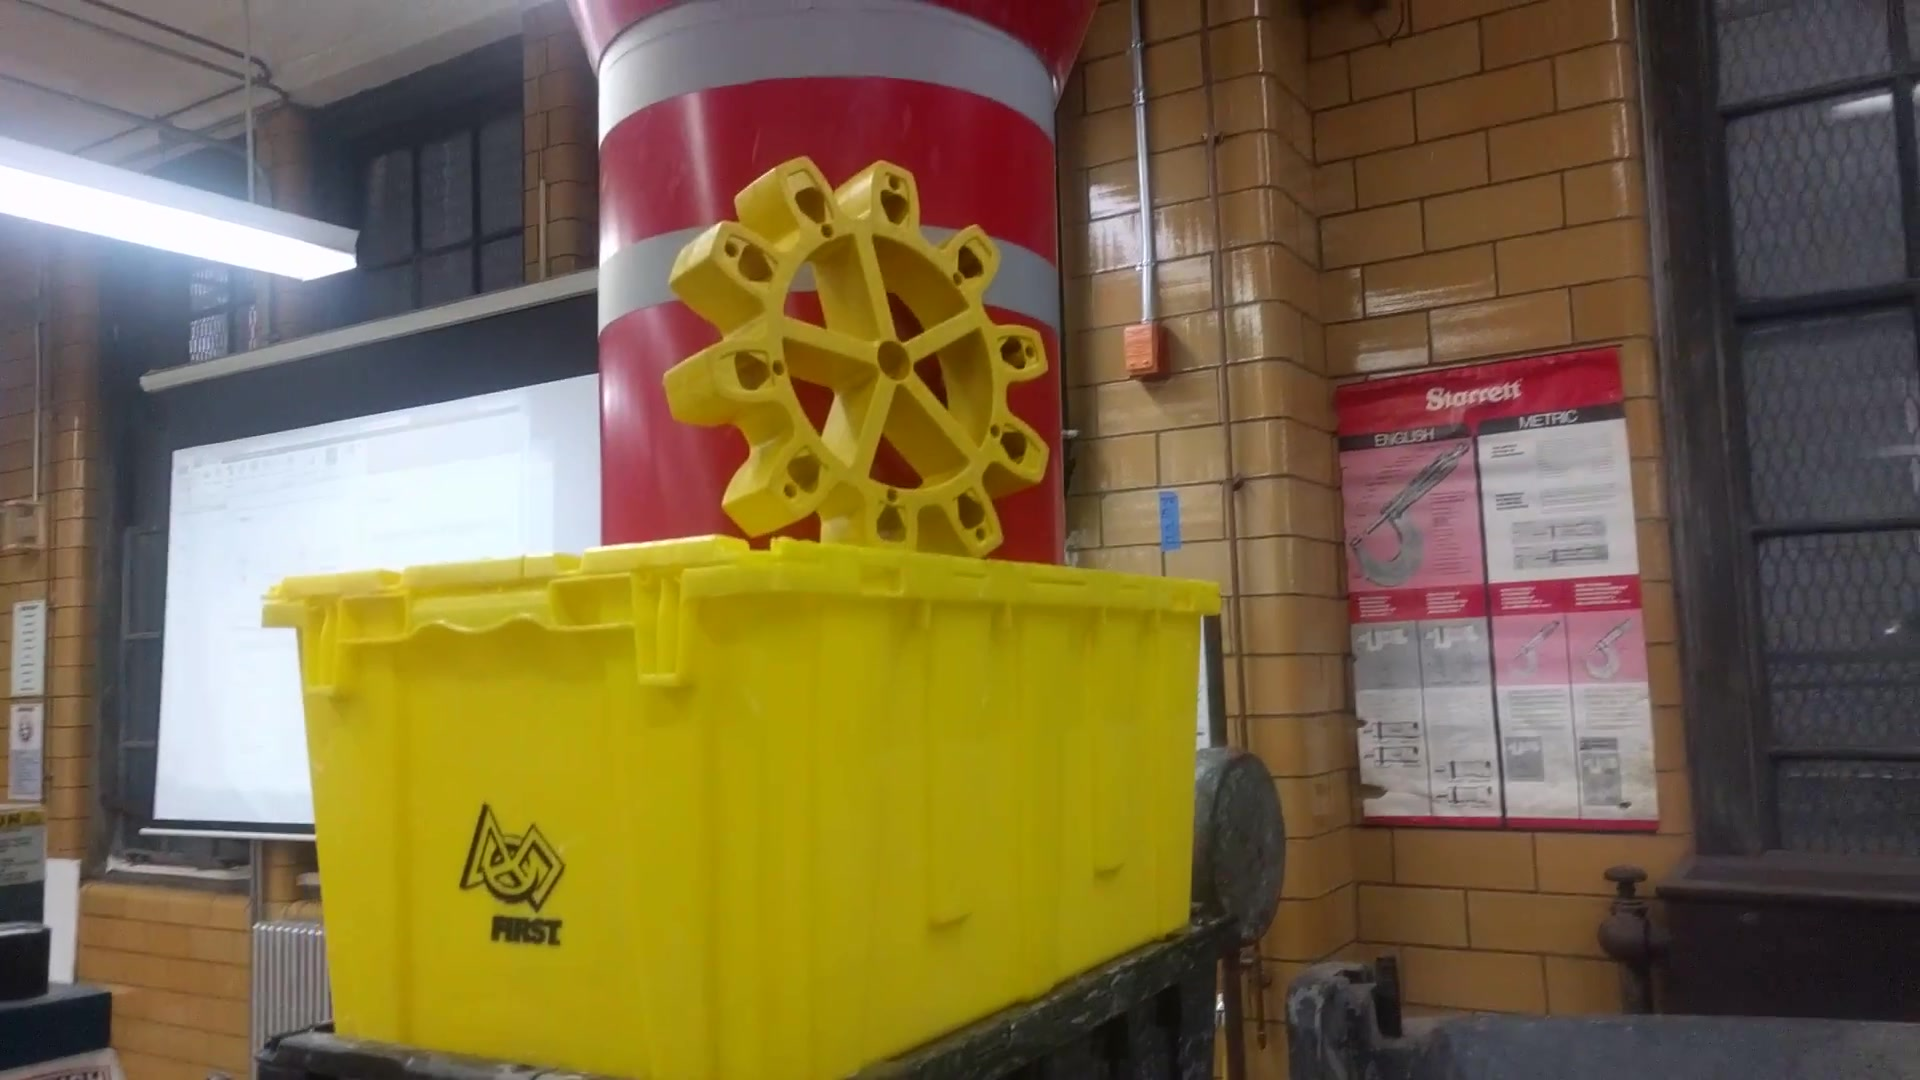gear: (641, 146, 1058, 571)
